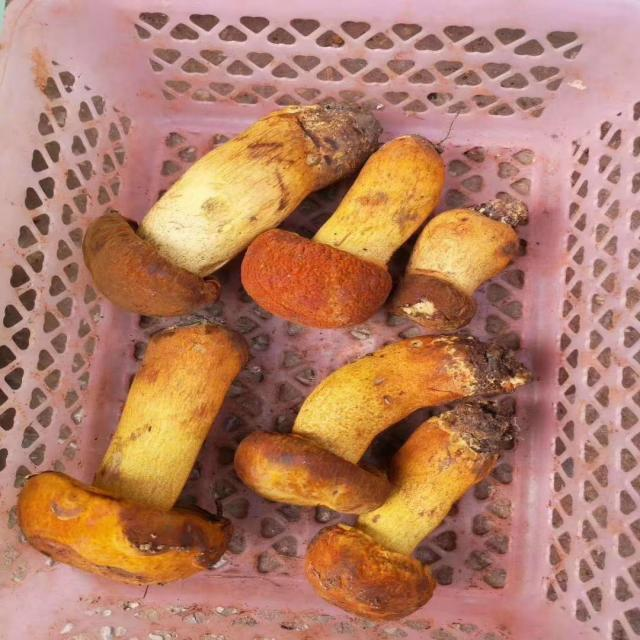Boletus: (88, 98, 381, 311), (16, 323, 247, 580), (240, 334, 489, 511), (319, 409, 512, 619), (246, 126, 443, 325), (396, 202, 523, 330)
